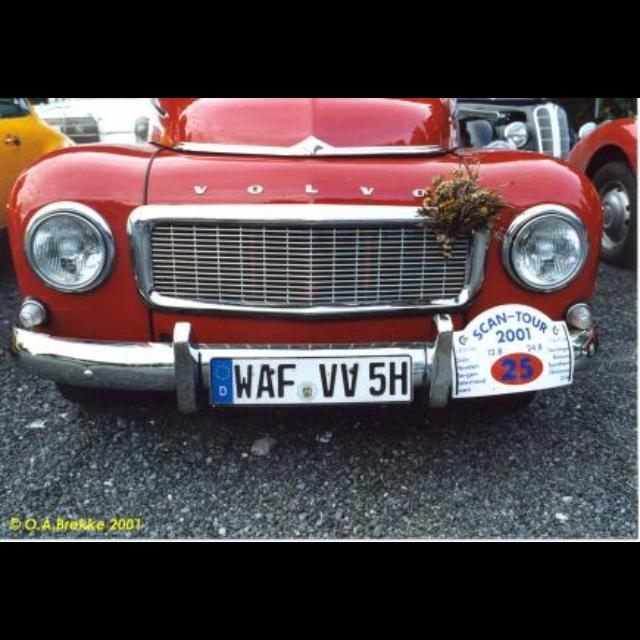license-plates: (211, 358, 412, 406)
